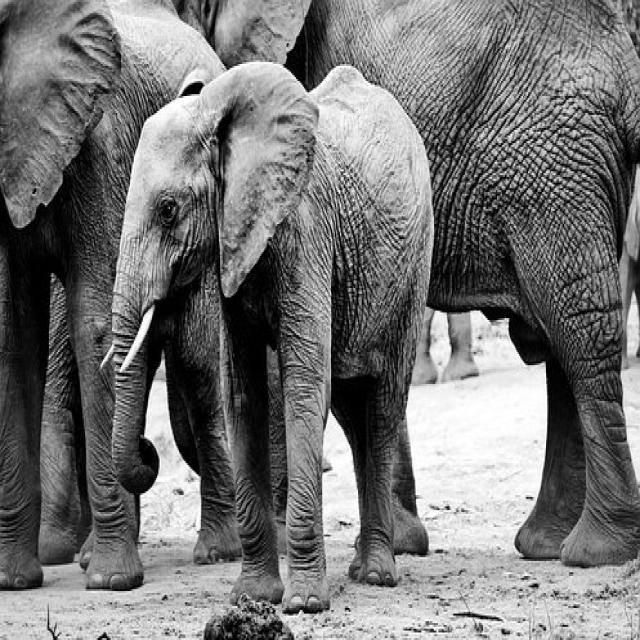Elephant: (93, 80, 467, 628)
